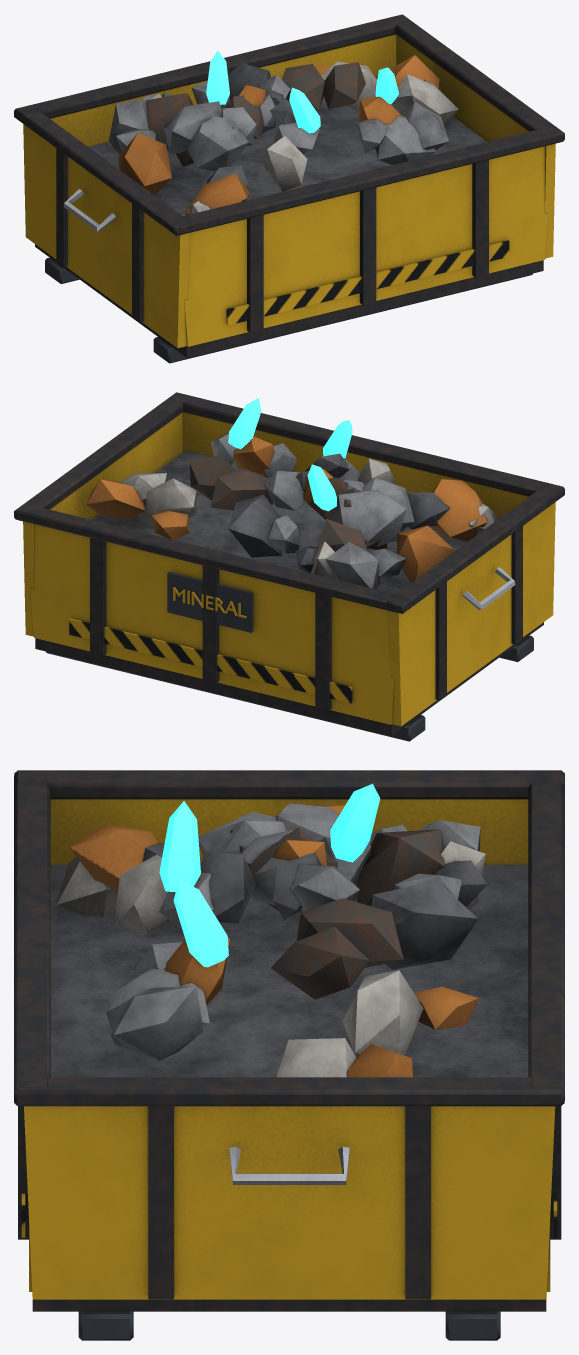
Rendered from deposito_minerales.fbx.
3 views of the same model, one above another, from view 1: azimuth 30°, elevation 25°; view 2: azimuth 150°, elevation 25°; view 3: azimuth 270°, elevation 25° (orthographic). The views are drawn at different scales.
Parts seen in each view (by area): view 1: deposito_minerales, deposito_minerales_mineral_neon; view 2: deposito_minerales, deposito_minerales_mineral_neon; view 3: deposito_minerales, deposito_minerales_mineral_neon.
Boxes of the visible parts, <box> form: deposito_minerales: <box>14,14,564,363</box>; deposito_minerales_mineral_neon: <box>206,50,398,133</box>; deposito_minerales: <box>14,392,564,741</box>; deposito_minerales_mineral_neon: <box>228,398,352,511</box>; deposito_minerales: <box>14,770,564,1340</box>; deposito_minerales_mineral_neon: <box>159,783,380,967</box>.
Size of the model in its own units: 4.46 by 2.22 by 3.
2 materials, 2 textured.
